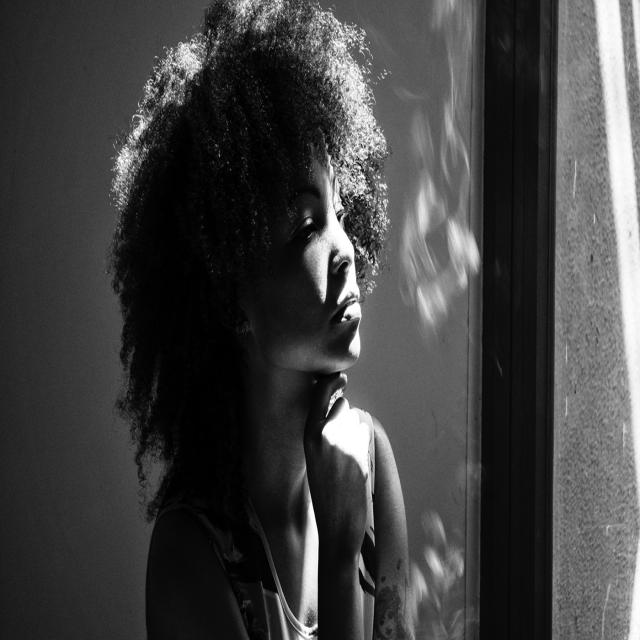sem_oculos: (238, 172, 366, 257)
